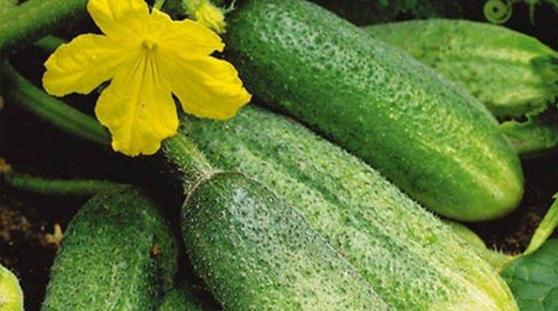cucumber: (224, 3, 527, 213)
